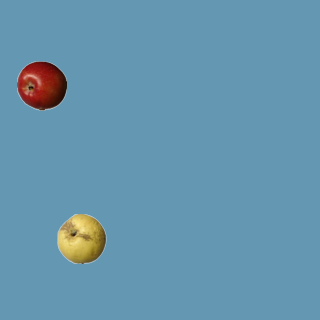Apple Braeburn: (16, 60, 66, 110)
Apple Golden 1: (56, 213, 106, 263)
